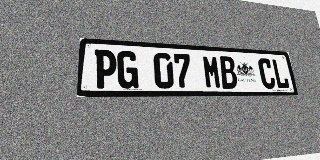0: (153, 52, 174, 89)
7: (172, 53, 193, 89)
B: (218, 56, 238, 89)
C: (257, 58, 276, 89)
G: (117, 51, 138, 88)
L: (271, 59, 290, 89)
M: (202, 55, 222, 89)
P: (94, 49, 116, 88)
